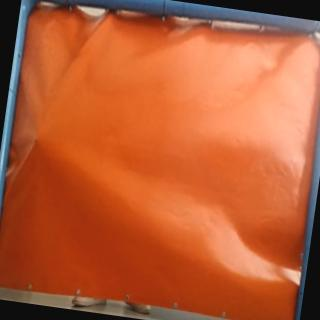Hit-hRxx: (29, 130, 43, 148)
